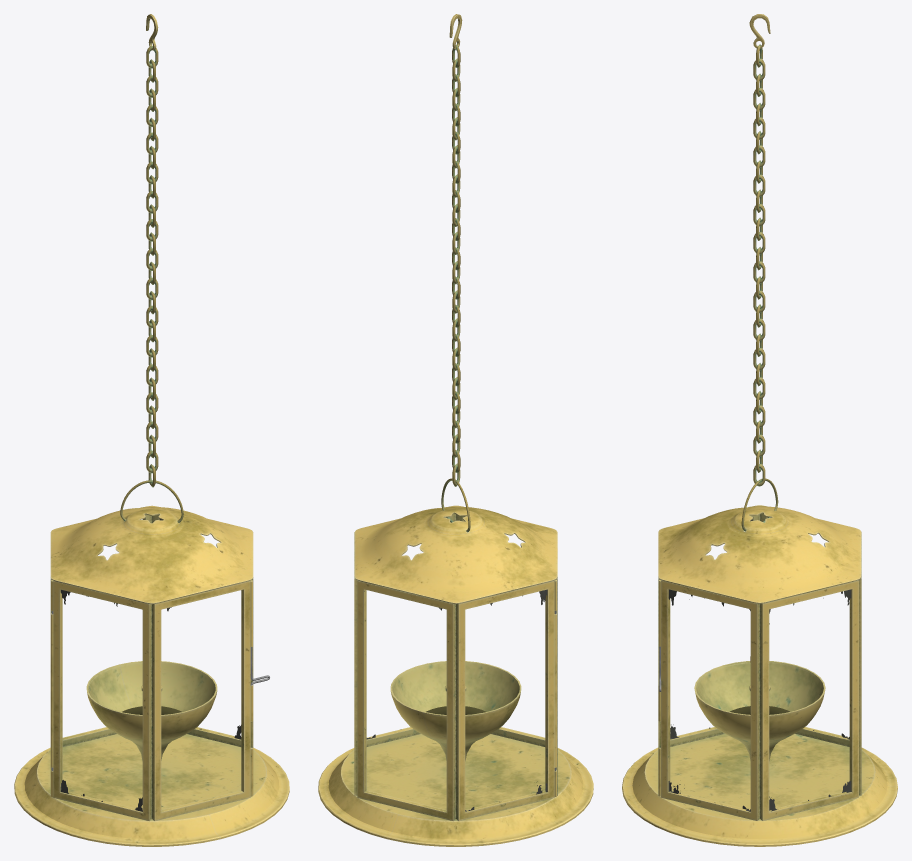
The model's file is brass_diya_lantern_1k.fbx.
3 renders of one model, left to right at view 1: azimuth 30°, elevation 25°; view 2: azimuth 150°, elevation 25°; view 3: azimuth 270°, elevation 25°, orthographic.
Visible parts, largest first — view 1: brass_diya_lantern, brass_diya_lantern_chain; view 2: brass_diya_lantern, brass_diya_lantern_chain; view 3: brass_diya_lantern, brass_diya_lantern_chain.
Part boxes in pixels (x1,y1,x2,y2): brass_diya_lantern: (14,505,289,846); brass_diya_lantern_chain: (146,14,158,487); brass_diya_lantern: (318,505,593,846); brass_diya_lantern_chain: (449,14,462,486); brass_diya_lantern: (622,505,897,846); brass_diya_lantern_chain: (749,14,770,486).
Size of the model in its own units: 12.3 by 38.08 by 12.3.
